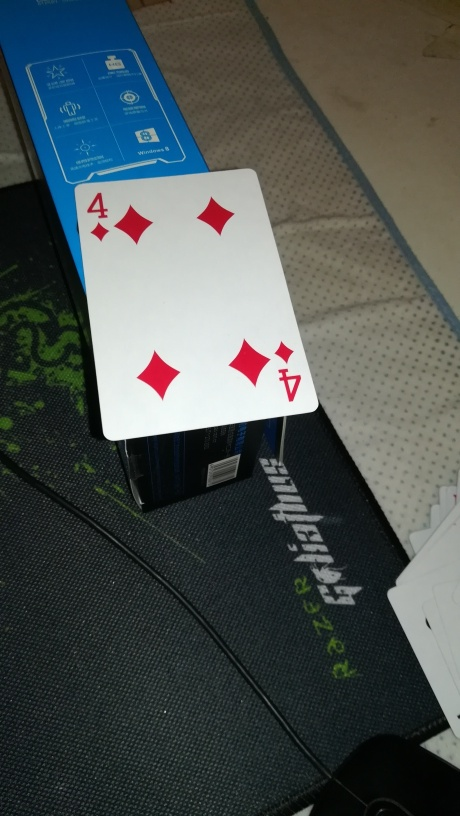fk 4: (74, 167, 321, 442)
